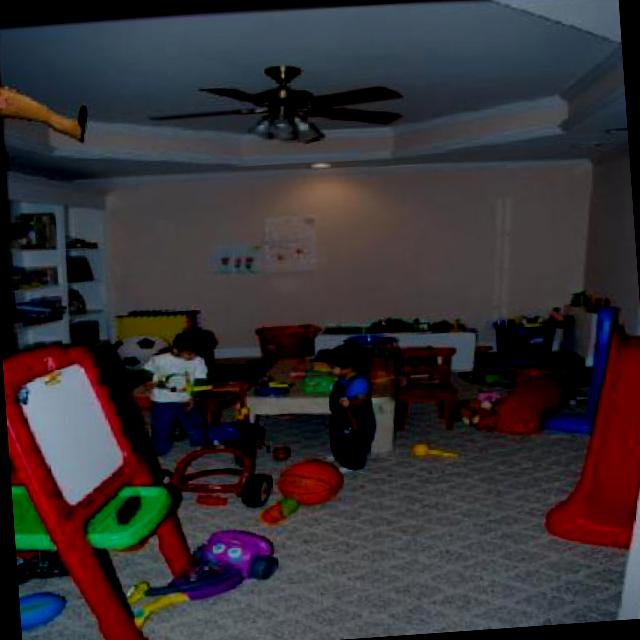Person: (0, 68, 93, 155)
